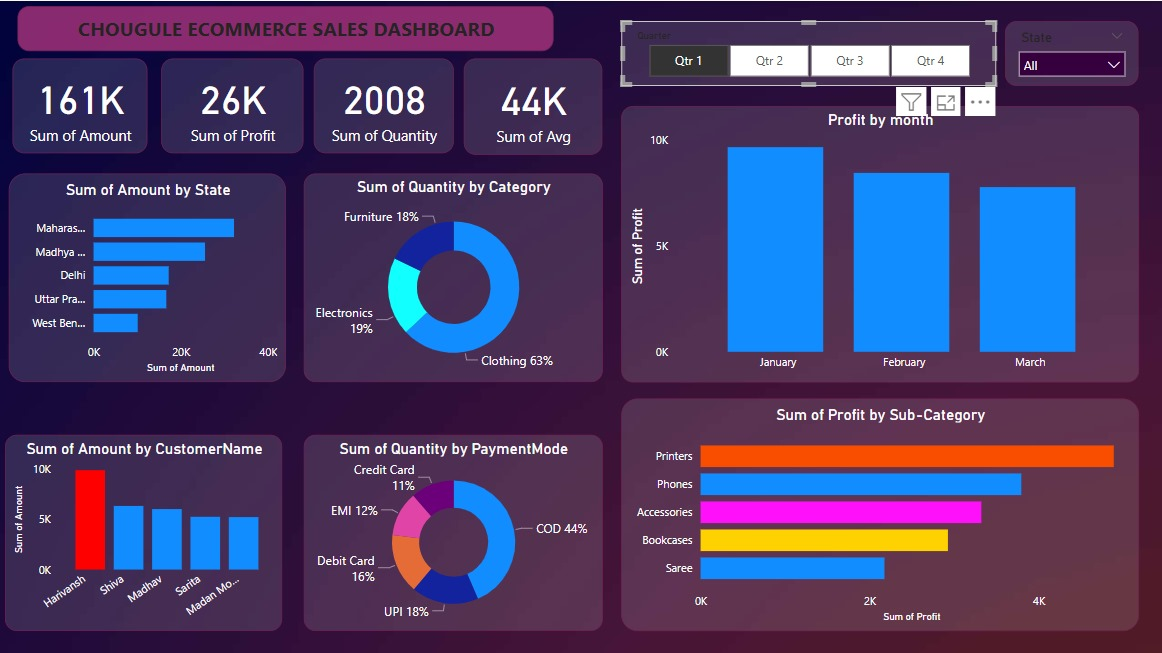

The dashboard page shown, as its layout file describes it:
{"tool":"powerbi","page":{"name":"Page 1","canvas":[1280,720],"ordinal":0},"visuals":[{"type":"textbox","box":[19.2,5.5,588.2,49.4],"z":0},{"type":"columnChart","title":"Profit by month","fields":{"Category":["Orders.Order Date.Variation.Date Hierarchy.Month"],"Y":["Sum(Details.Profit)"]},"box":[681.4,115.2,567.6,303],"z":1000},{"type":"barChart","fields":{"Category":["Details.Sub-Category"],"Y":["Sum(Details.Profit)"]},"box":[681.4,436,567.6,255],"z":2000},{"type":"donutChart","fields":{"Category":["Details.Category"],"Y":["Sum(Details.Quantity)"]},"box":[333.2,189.2,327.7,229],"z":3000},{"type":"donutChart","fields":{"Category":["Details.PaymentMode"],"Y":["Sum(Details.Quantity)"]},"box":[333.2,475.8,327.7,215.3],"z":4000},{"type":"card","fields":{"Values":["Sum(Details.Amount)"]},"box":[13.7,63.1,148.1,104.2],"z":5000},{"type":"card","fields":{"Values":["Sum(Details.Profit)"]},"box":[176.9,63.1,156.3,104.2],"z":6000},{"type":"card","fields":{"Values":["Sum(Details.Quantity)"]},"box":[344.1,63.1,153.6,104.2],"z":7000},{"type":"card","fields":{"Values":["Sum(Details.Avg)"]},"box":[508.7,63.1,152.2,105.6],"z":8000},{"type":"barChart","fields":{"Category":["Orders.State"],"Y":["Sum(Details.Amount)"]},"box":[9.6,189.2,304.4,229],"z":9000},{"type":"columnChart","fields":{"Category":["Orders.CustomerName"],"Y":["Sum(Details.Amount)"]},"box":[5.5,475.8,304.4,215.3],"z":10000},{"type":"slicer","fields":{"Values":["Orders.Order Date.Variation.Date Hierarchy.Quarter"]},"box":[681.4,21.9,411.3,71.3],"z":11000},{"type":"slicer","fields":{"Values":["Orders.State"]},"box":[1102.3,21.9,146.7,71.3],"z":12000}]}

Visuals, with their boxes in screenshot pixels (x1, y1, x2, y2), scaled from the page's 1280x720 canvas onto the 1162x653 screenshot:
textbox: box(17, 5, 551, 50)
"Profit by month" columnChart: box(619, 104, 1134, 379)
barChart - Details.Sub-Category x Sum(Details.Profit): box(619, 395, 1134, 627)
donutChart - Details.Category x Sum(Details.Quantity): box(302, 172, 600, 379)
donutChart - Details.PaymentMode x Sum(Details.Quantity): box(302, 432, 600, 627)
card - Sum(Details.Amount): box(12, 57, 147, 152)
card - Sum(Details.Profit): box(161, 57, 302, 152)
card - Sum(Details.Quantity): box(312, 57, 452, 152)
card - Sum(Details.Avg): box(462, 57, 600, 153)
barChart - Orders.State x Sum(Details.Amount): box(9, 172, 285, 379)
columnChart - Orders.CustomerName x Sum(Details.Amount): box(5, 432, 281, 627)
slicer - Orders.Order Date.Variation.Date Hierarchy.Quarter: box(619, 20, 992, 85)
slicer - Orders.State: box(1001, 20, 1134, 85)
